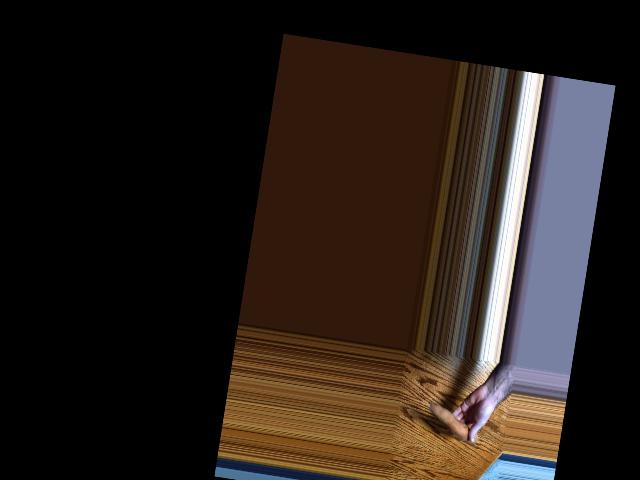sweet_potato: (425, 402, 484, 445)
